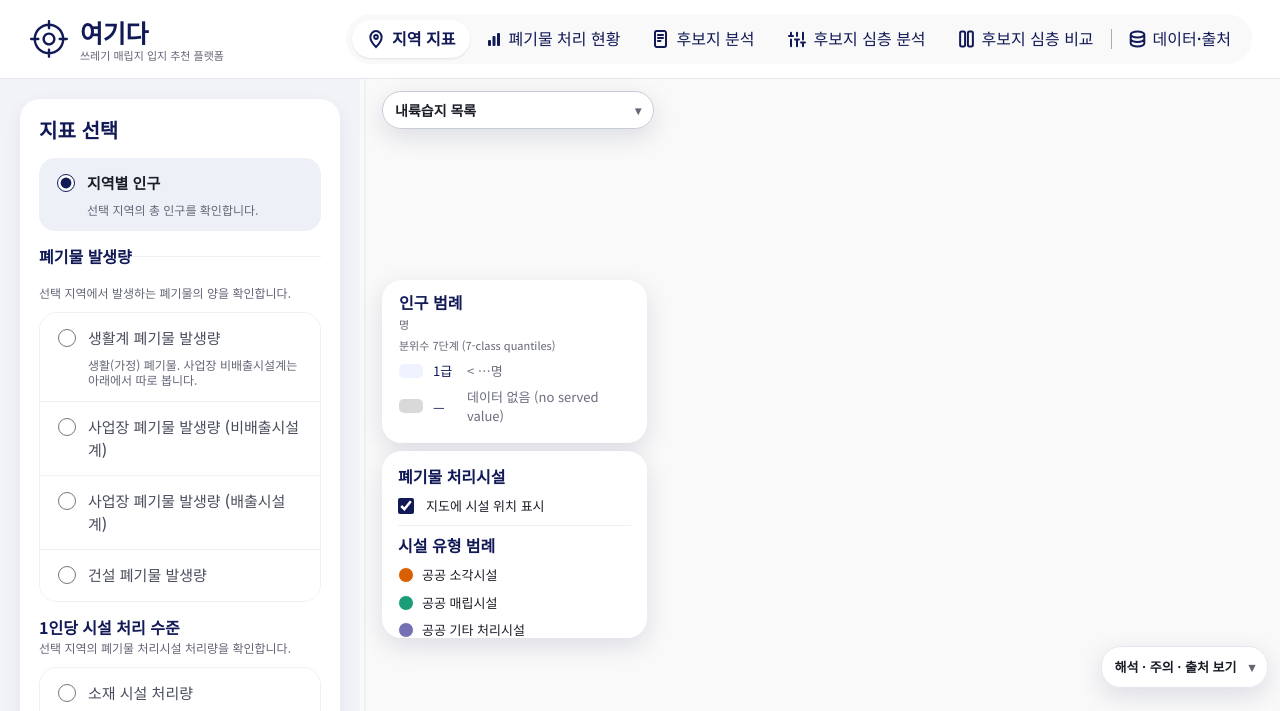
Test: opening from the navigation › opens a modal dialog rather than navigating to a page
This screenshot has width=1280, height=711.
Click the button with test id "mode-transparency" at (1180, 39), box x1=1114 y1=20 x2=1246 y2=58
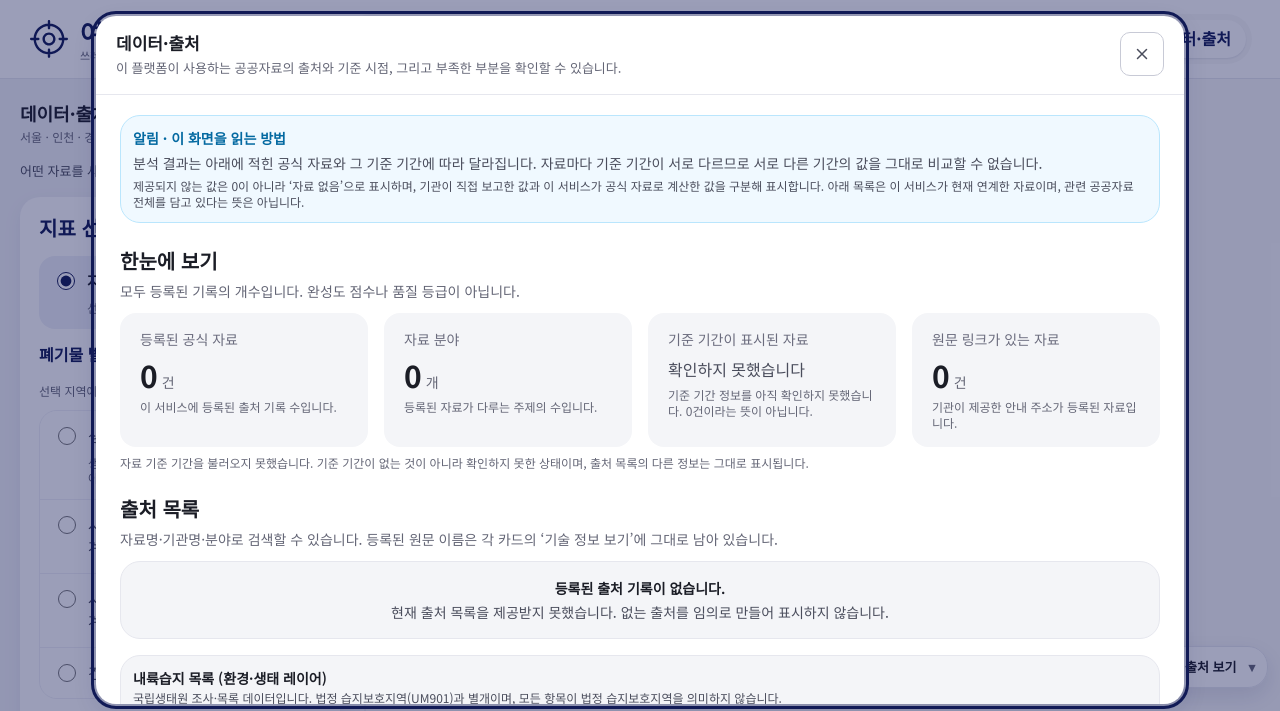
Result: the dialog with test id "data-sources-dialog" is shown
Result: the heading "데이터·출처" is shown at x1=116 y1=30 x2=200 y2=55
